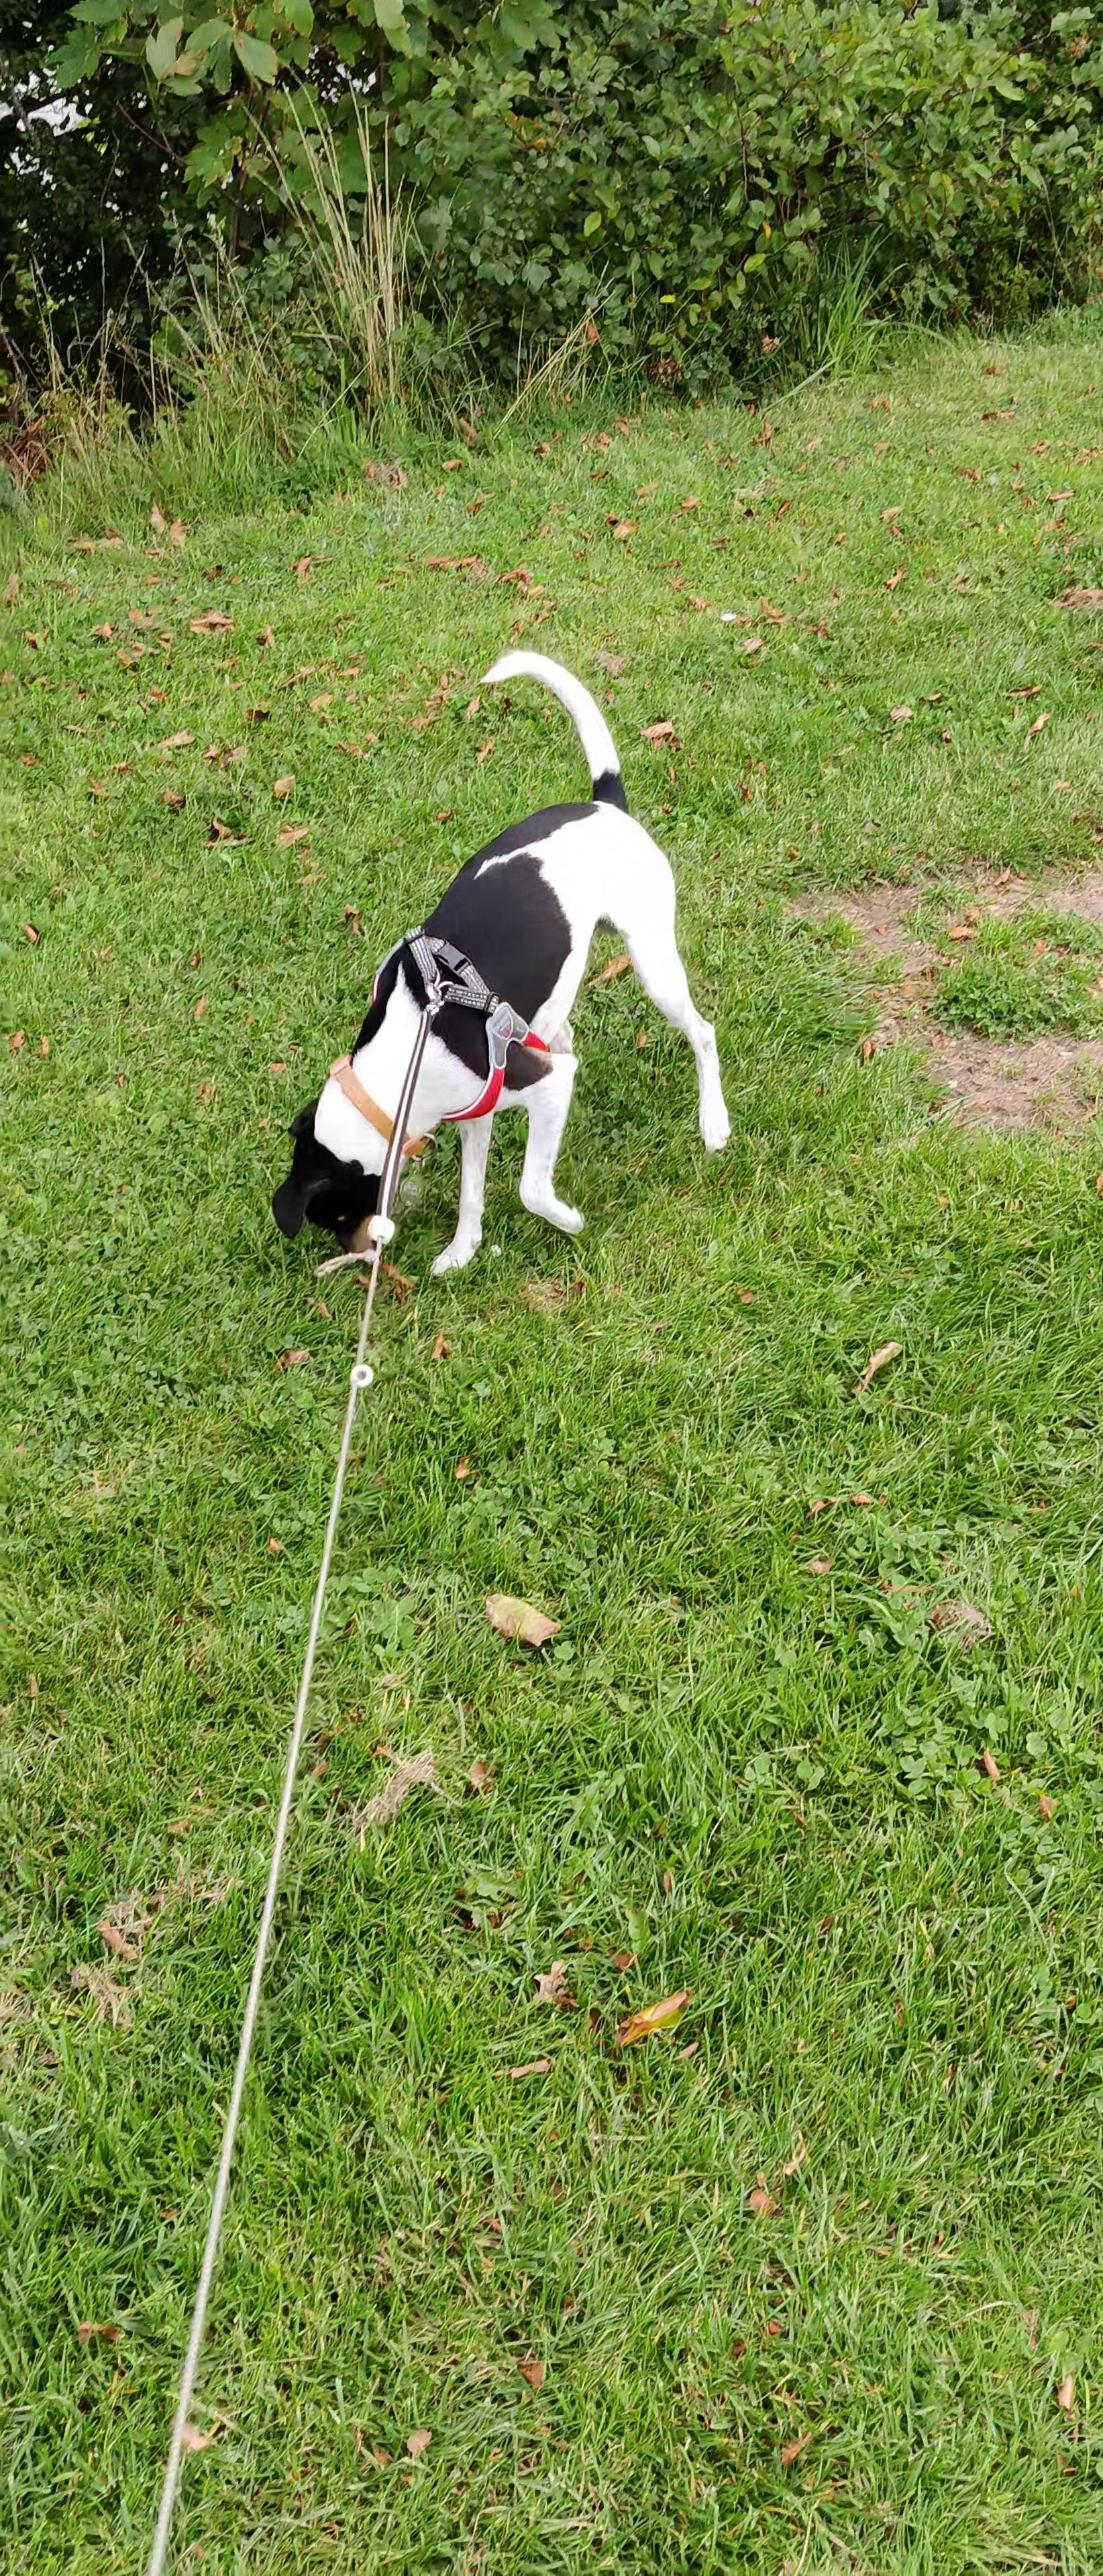Dog: (263, 639, 750, 1295)
